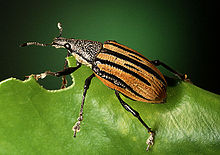dolgonosik: (18, 22, 192, 152)
